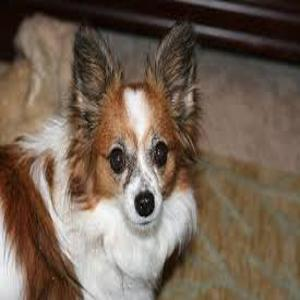yell: (0, 20, 198, 299)
